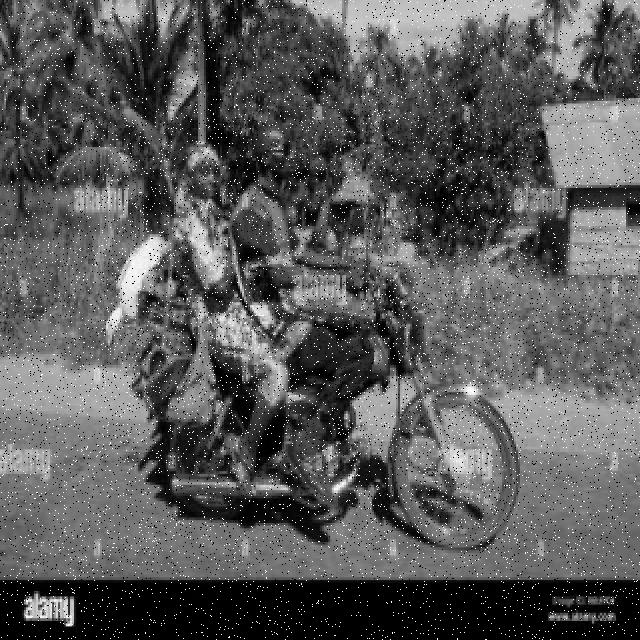Motorbike: (105, 120, 520, 550)
